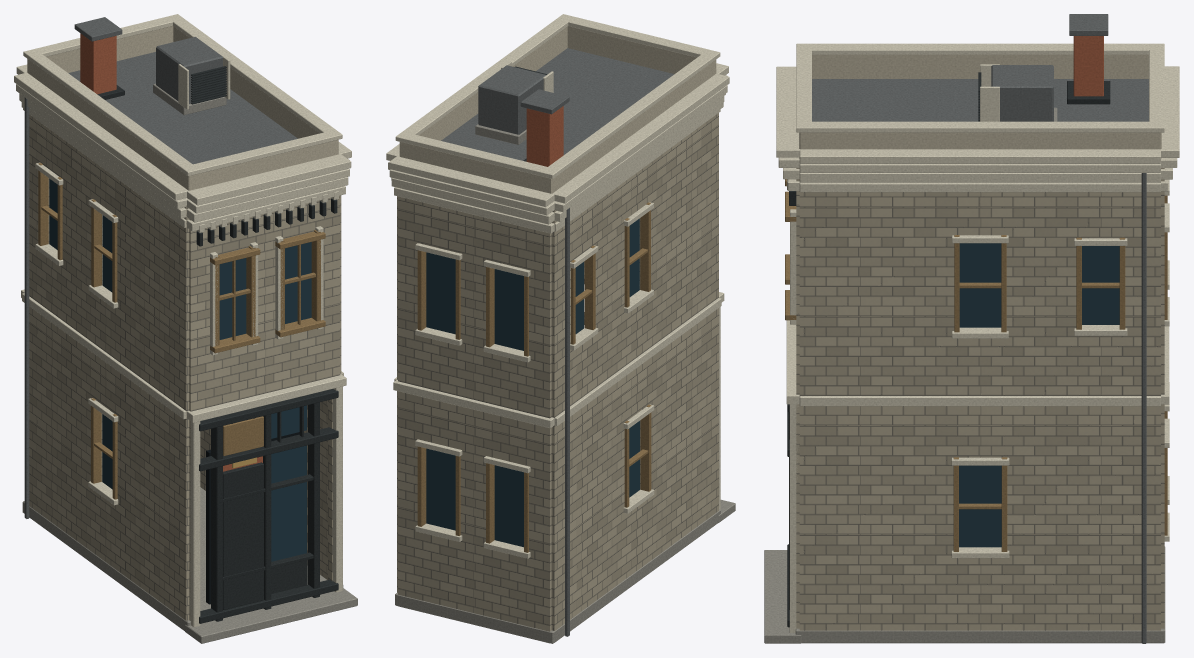
The model's file is BUSS10_lod1.glb.
3 views of the same model, side by side, from view 1: azimuth 30°, elevation 25°; view 2: azimuth 150°, elevation 25°; view 3: azimuth 270°, elevation 25° (orthographic). The views are drawn at different scales.
Parts seen in each view (by area): view 1: BUSS10_LOD1; view 2: BUSS10_LOD1; view 3: BUSS10_LOD1.
Part boxes in pixels (box(x1,y1,x2,y2)): BUSS10_LOD1: box(14, 14, 357, 643); BUSS10_LOD1: box(386, 14, 735, 643); BUSS10_LOD1: box(764, 14, 1179, 643).
Bounding box in the file's own units: 3.78 × 10.25 × 6.9.
11 materials, 8 textured.
